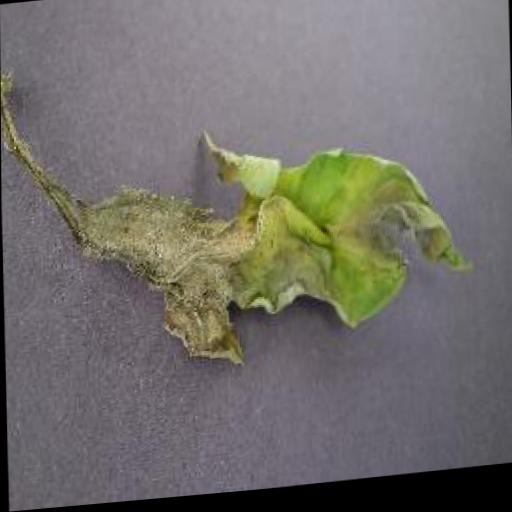Late Blight: (0, 30, 472, 391)
